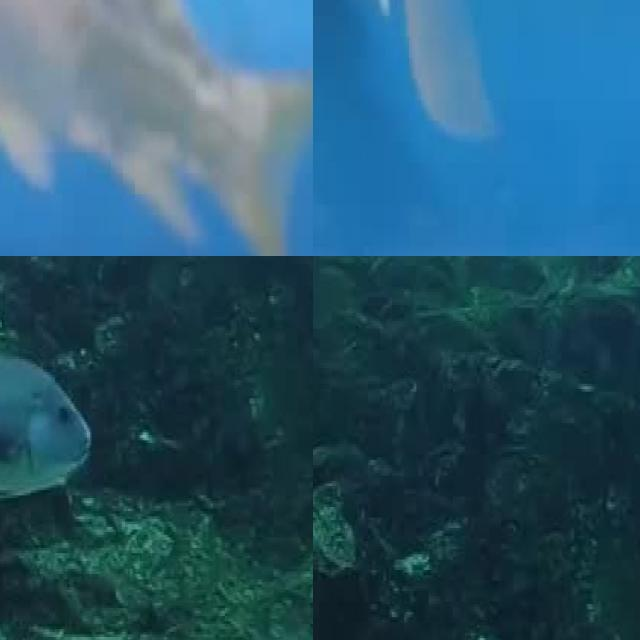fish: (0, 0, 313, 256), (0, 346, 97, 498)
